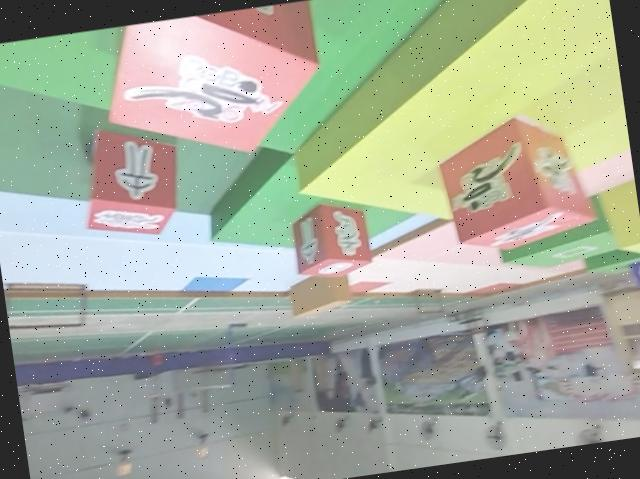R1: (93, 0, 332, 173), (431, 93, 603, 257)
R2 Fake: (75, 117, 188, 244), (288, 195, 375, 282)
